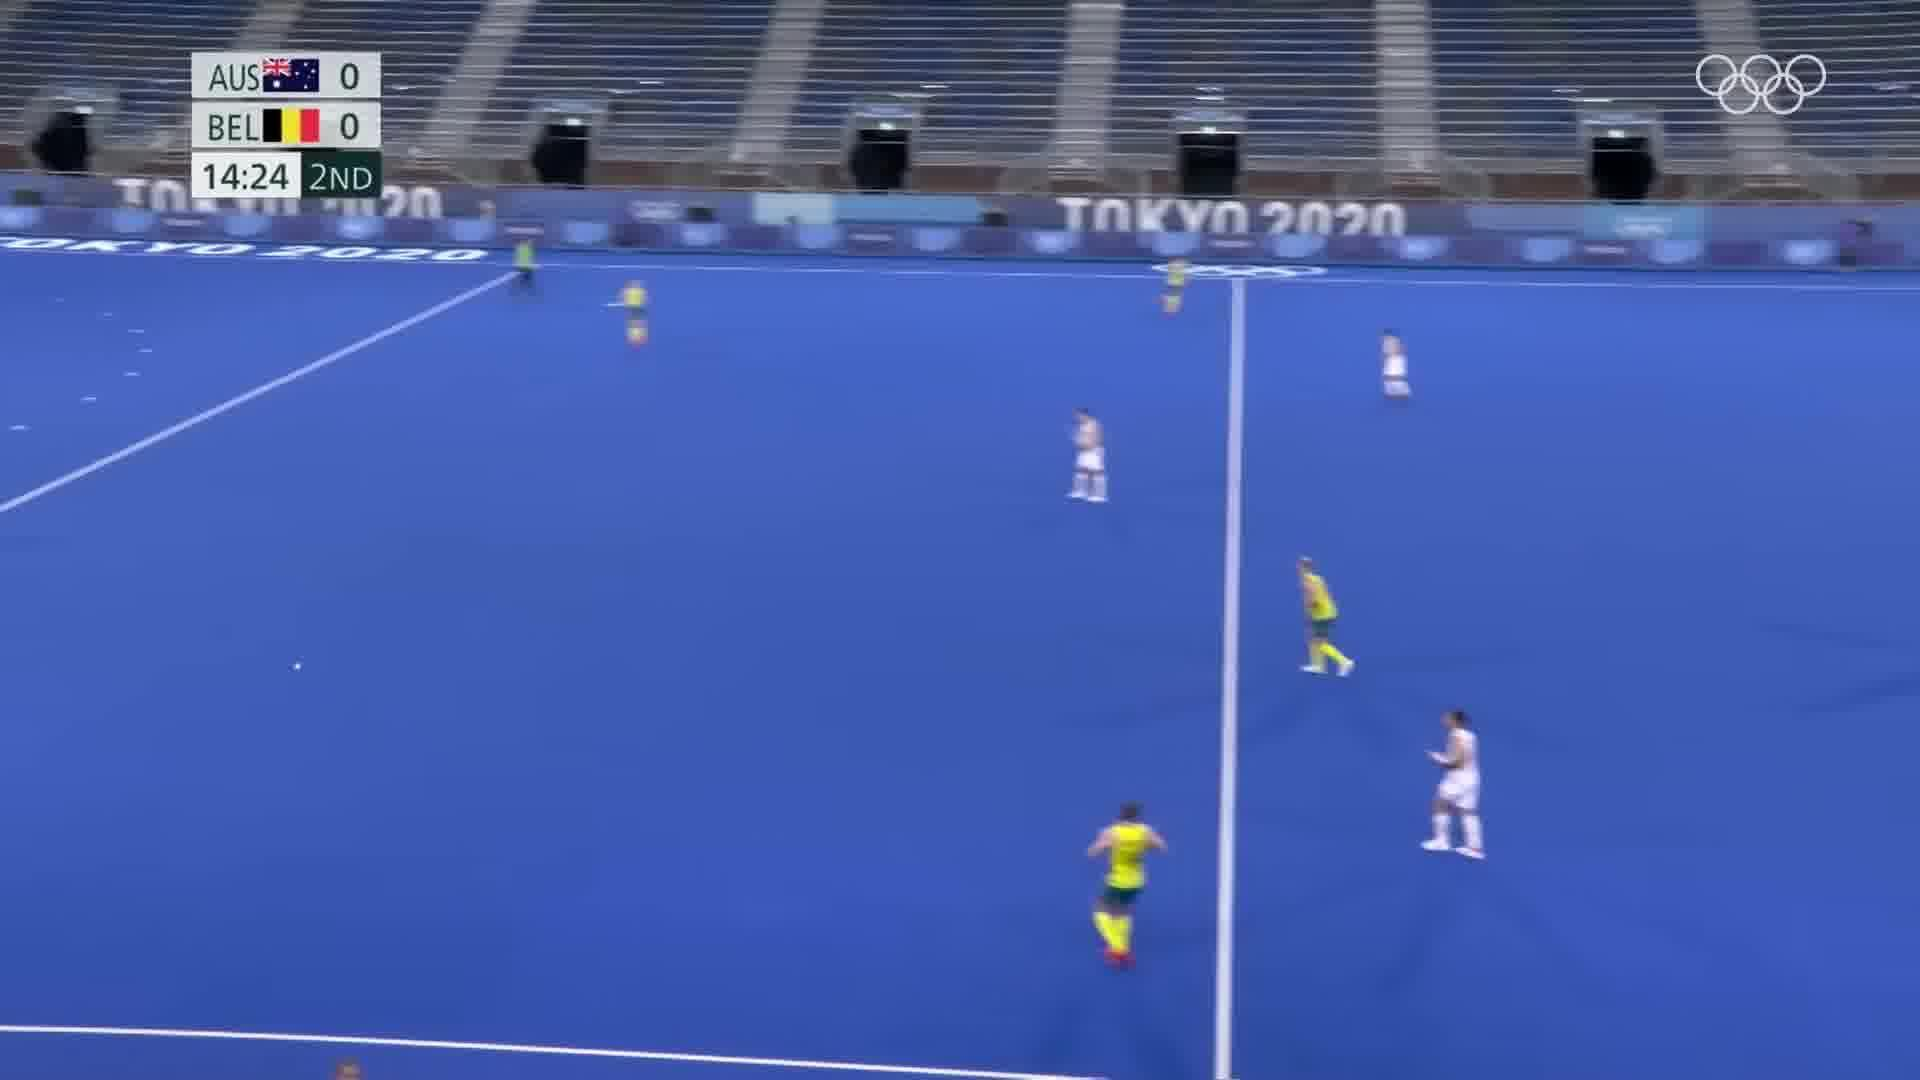ball: (284, 654, 310, 684)
